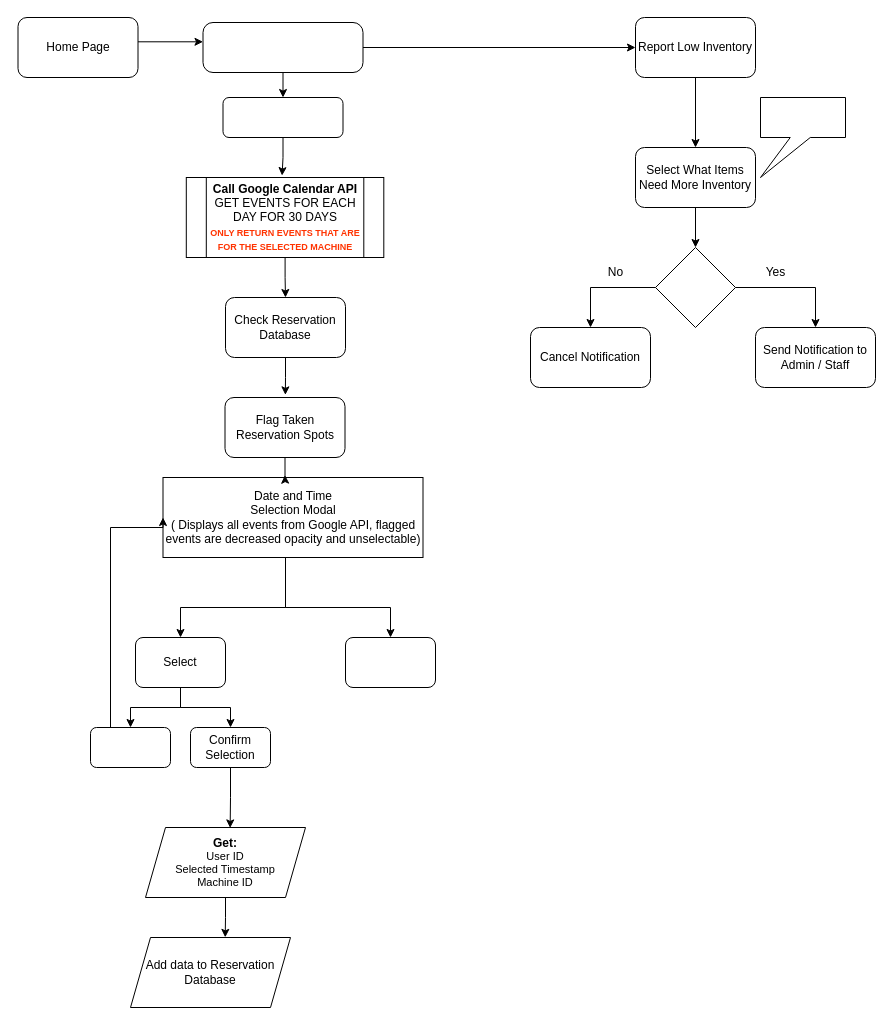
The diagram is 893 pixels wide and 1025 high, and some of its shapes have lost their labels. The centre of each missing label's shape, as x and y in pixels:
"Cancel" belongs at point 130,747.
"Checkbox Style" belongs at point 803,137.
"Exit" belongs at point 390,662.
"Reserve A Machine Page" belongs at point 282,47.
"Selected a Machine to Reserve" belongs at point 282,117.
"Send?" belongs at point 695,287.
